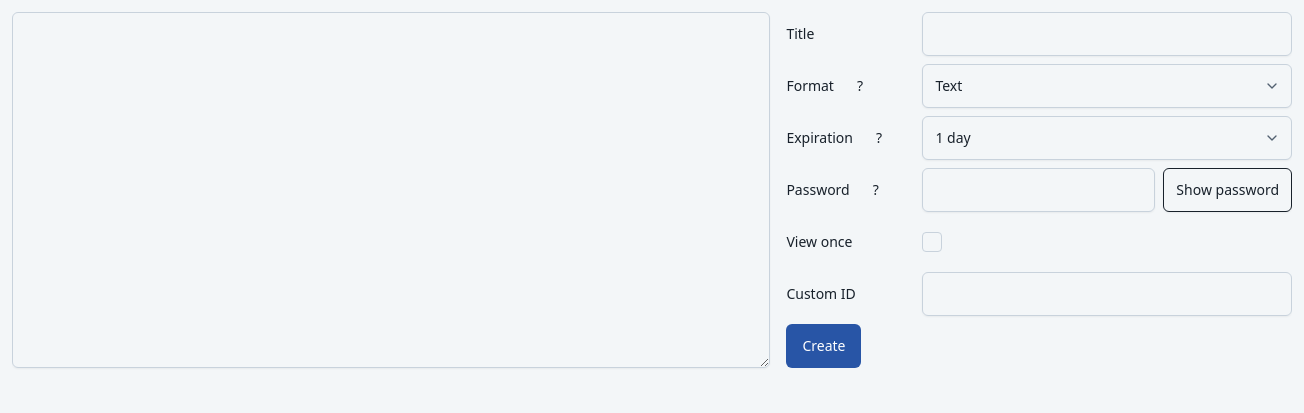
Test case: create interaction › does not attach a generic create failure to a field
Type "valid" into the text box named "content". click: (391, 190)
box: [12,12,770,368]
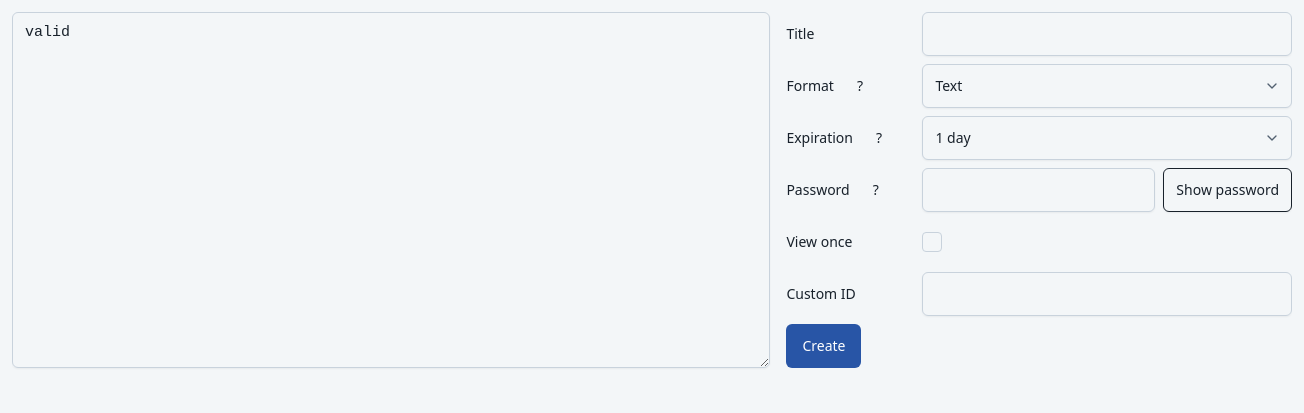
Click the button "Create". click: (824, 346)
box: [786,324,862,368]
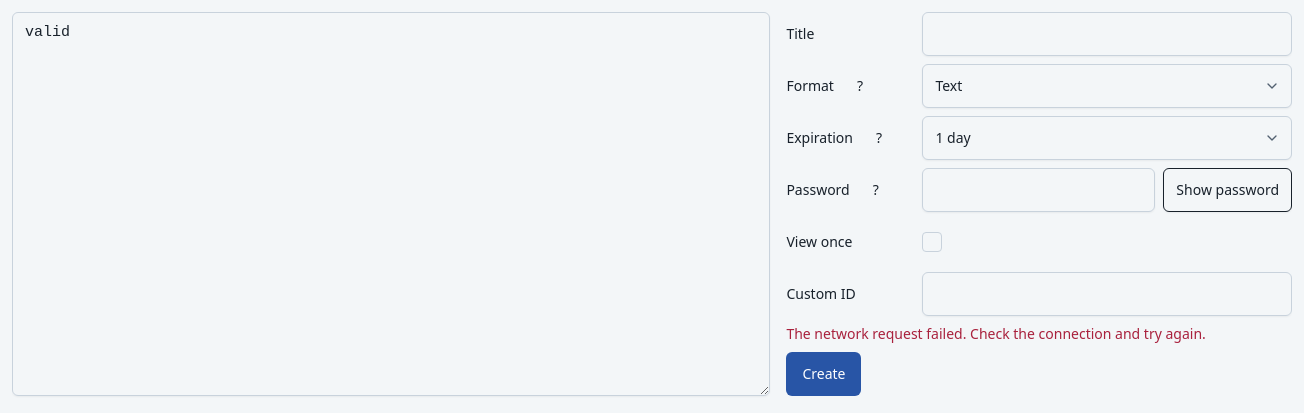
Result: the message with id "create-validation-error" shows "network request failed" at [786,324,1206,343]
